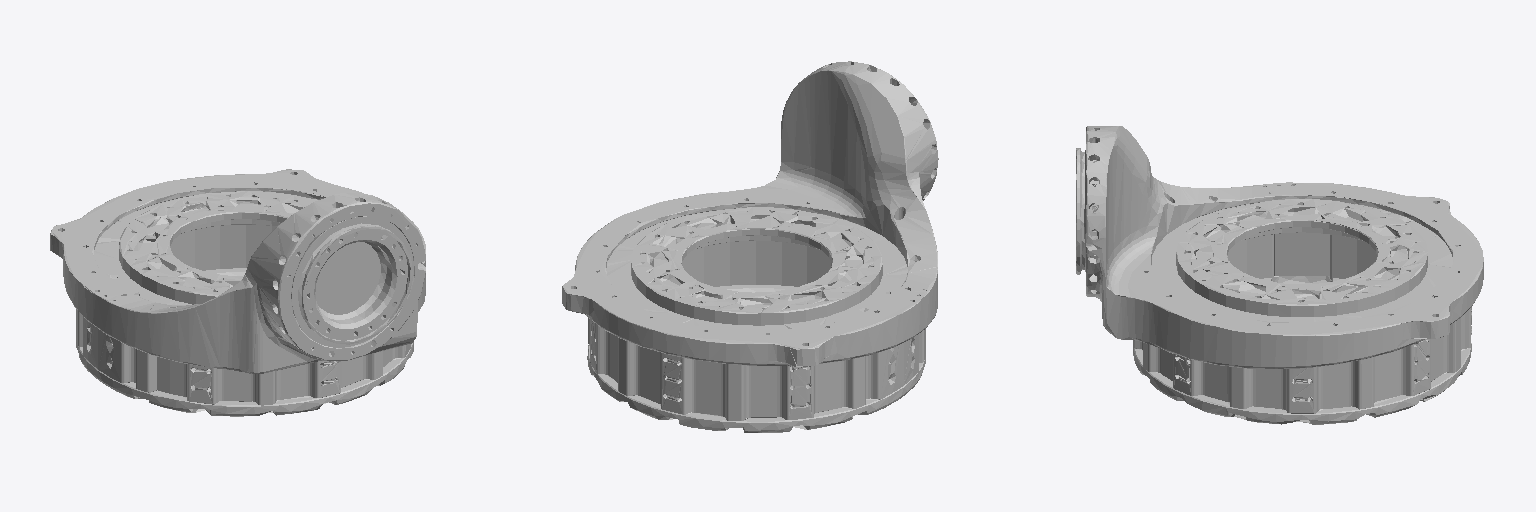
File: right_thigh_yaw_link.obj
The picture shows the model from 3 angles: view 1: azimuth 30°, elevation 25°; view 2: azimuth 150°, elevation 25°; view 3: azimuth 270°, elevation 25°; orthographic projection.
Parts seen in each view (by area): view 1: right_thigh_yaw_link; view 2: right_thigh_yaw_link; view 3: right_thigh_yaw_link.
Boxes of the visible parts, x1=… form: right_thigh_yaw_link: x1=50, y1=169, x2=425, y2=416; right_thigh_yaw_link: x1=562, y1=61, x2=938, y2=432; right_thigh_yaw_link: x1=1076, y1=126, x2=1483, y2=424.
Size of the model in its own units: 0.18 by 0.1337 by 0.202.